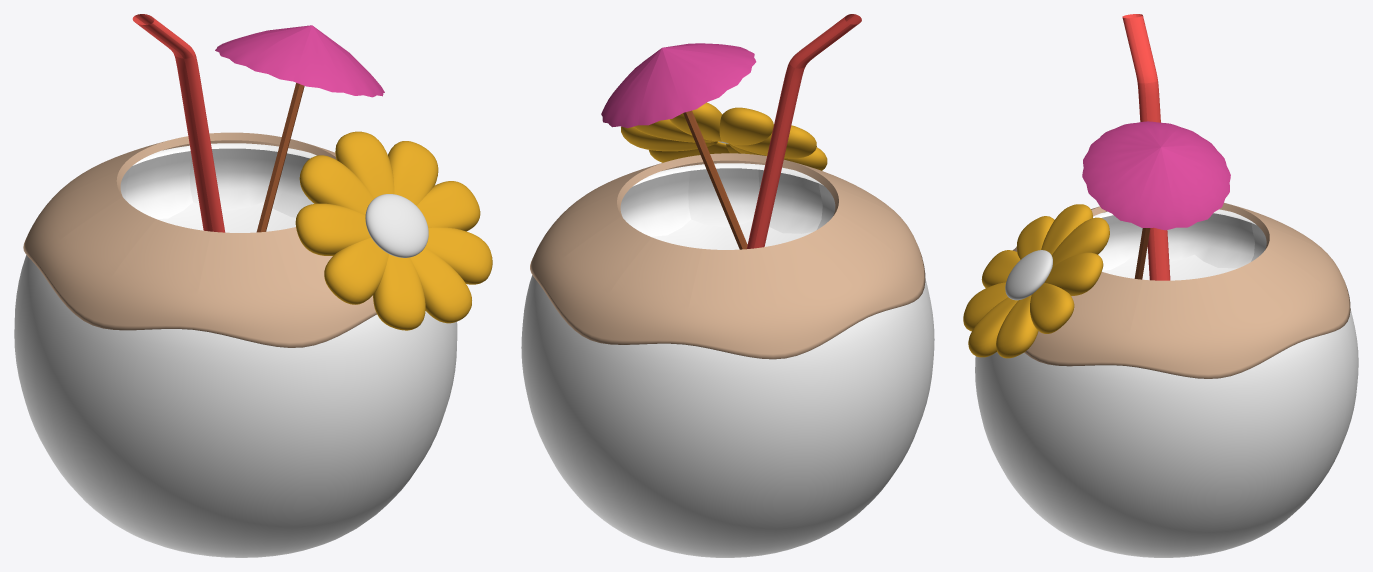
File: yezi.glb
3 renders of one model, left to right at view 1: azimuth 30°, elevation 25°; view 2: azimuth 150°, elevation 25°; view 3: azimuth 270°, elevation 25°, orthographic. The views are drawn at different scales.
Parts seen in each view (by area): view 1: coconut, flower, umbrella, straw; view 2: coconut, umbrella, flower, straw; view 3: coconut, flower, umbrella, straw.
Boxes of the visible parts, x1,y1,x2,y2 form: coconut: (14, 132, 457, 557); flower: (295, 131, 492, 330); umbrella: (215, 25, 384, 232); straw: (132, 14, 225, 232); coconut: (521, 153, 934, 557); umbrella: (601, 43, 756, 249); flower: (621, 102, 827, 170); straw: (746, 14, 861, 248); coconut: (975, 202, 1358, 557); flower: (963, 204, 1109, 358); umbrella: (1082, 121, 1230, 279); straw: (1122, 14, 1170, 280).
Bounding box in the file's own units: 2.13 × 2.91 × 2.26.
